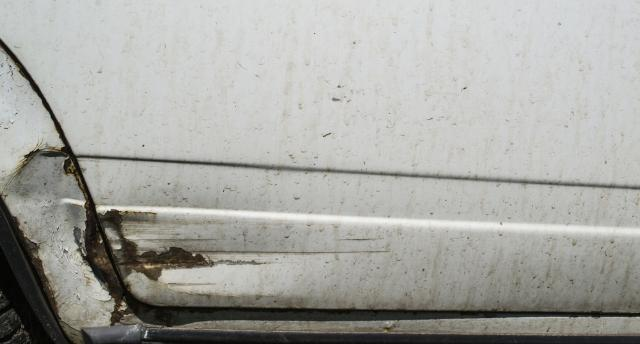dent: (2, 145, 118, 327)
scratch: (93, 206, 400, 281)
